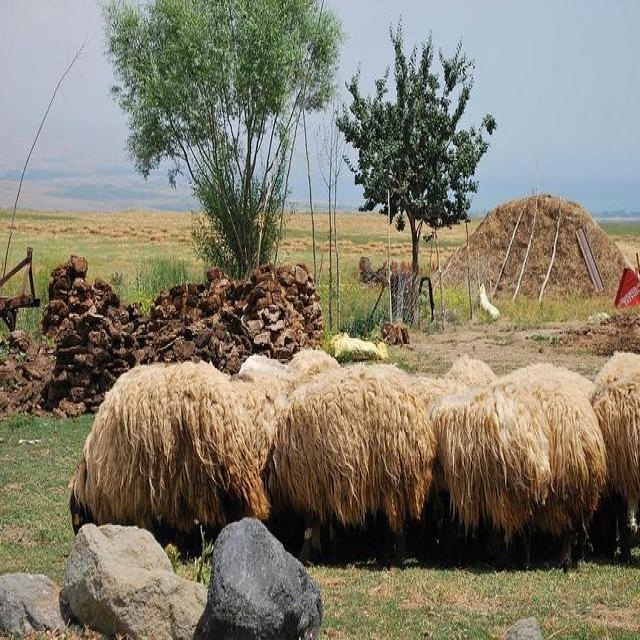Sheep: (65, 364, 276, 536), (266, 368, 439, 517), (489, 360, 607, 570), (438, 388, 551, 538), (585, 354, 639, 567), (237, 350, 343, 435), (419, 360, 508, 450)
